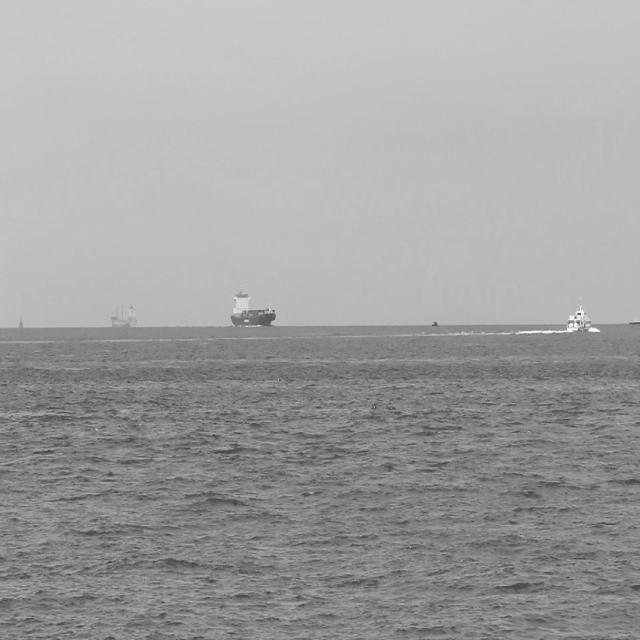ship: (228, 278, 277, 330), (563, 299, 596, 337), (110, 298, 142, 331), (628, 313, 640, 327)
